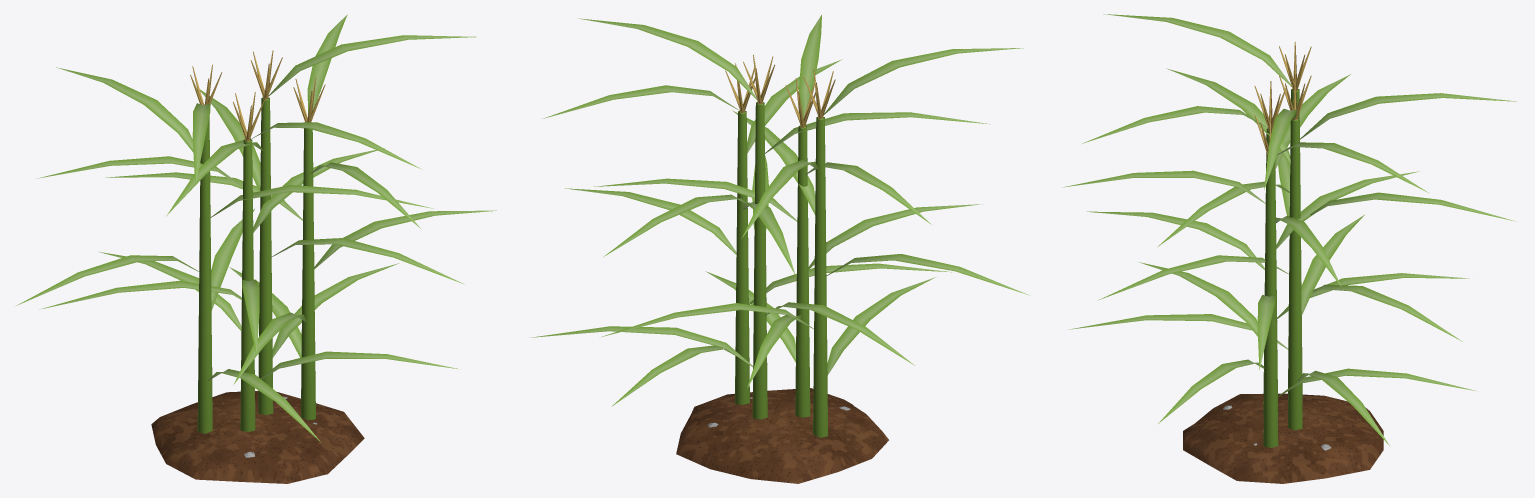
Rendered from plant-corn-4.glb.
3 renders of one model, left to right at view 1: azimuth 30°, elevation 25°; view 2: azimuth 150°, elevation 25°; view 3: azimuth 270°, elevation 25°, orthographic.
Parts seen in each view (by area): view 1: plant-corn-4; view 2: plant-corn-4; view 3: plant-corn-4.
Part boxes in pixels (x1,y1,x2,y2): plant-corn-4: (16, 14, 496, 483); plant-corn-4: (529, 14, 1029, 483); plant-corn-4: (1063, 14, 1516, 483).
Bounding box in the file's own units: 2.21 × 1.67 × 1.88.
4 materials, 2 textured.
